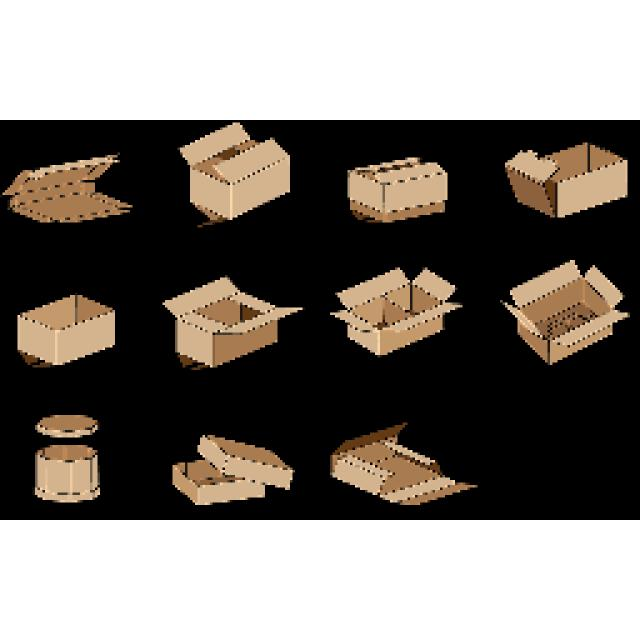cardboard: (504, 260, 629, 363), (162, 276, 301, 368), (330, 424, 475, 504), (331, 268, 461, 356), (180, 122, 291, 219), (501, 140, 629, 218), (2, 155, 132, 222), (171, 435, 294, 505), (18, 294, 115, 366), (348, 155, 449, 222), (35, 444, 100, 503), (35, 415, 99, 439)
